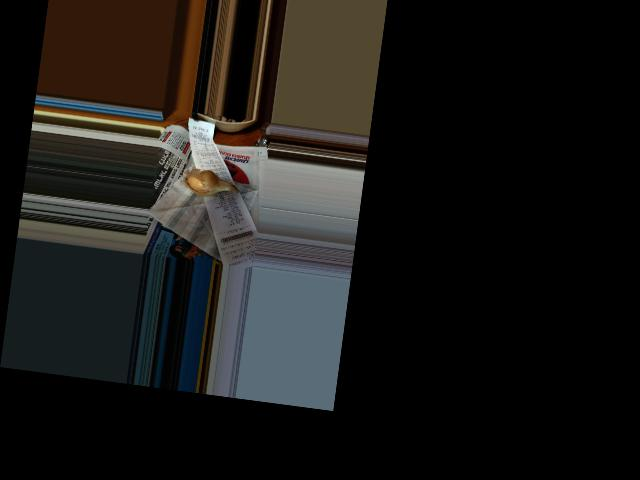onion: (186, 167, 226, 200)
